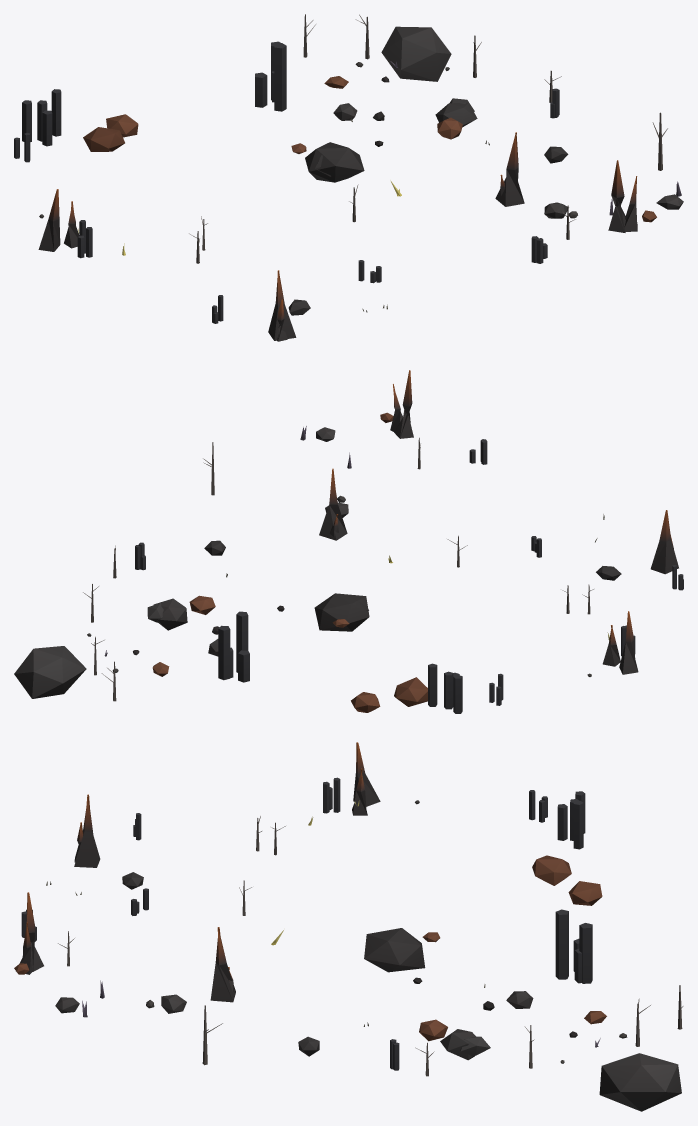
File: ash_land_scatter_c20_27_lod1.glb
The picture shows the model from 3 angles, top to bottom: view 1: azimuth 30°, elevation 25°; view 2: azimuth 150°, elevation 25°; view 3: azimuth 270°, elevation 25°; orthographic projection. The views are drawn at different scales.
Parts seen in each view (by area): view 1: ash_land_scatter_c20_27_lod1; view 2: ash_land_scatter_c20_27_lod1; view 3: ash_land_scatter_c20_27_lod1.
Part boxes in pixels (<box>): ash_land_scatter_c20_27_lod1: <box>14,14,683,341</box>; ash_land_scatter_c20_27_lod1: <box>14,370,683,713</box>; ash_land_scatter_c20_27_lod1: <box>14,742,683,1111</box>.
Size of the model in its own units: 92.41 by 25.2 by 94.45.
